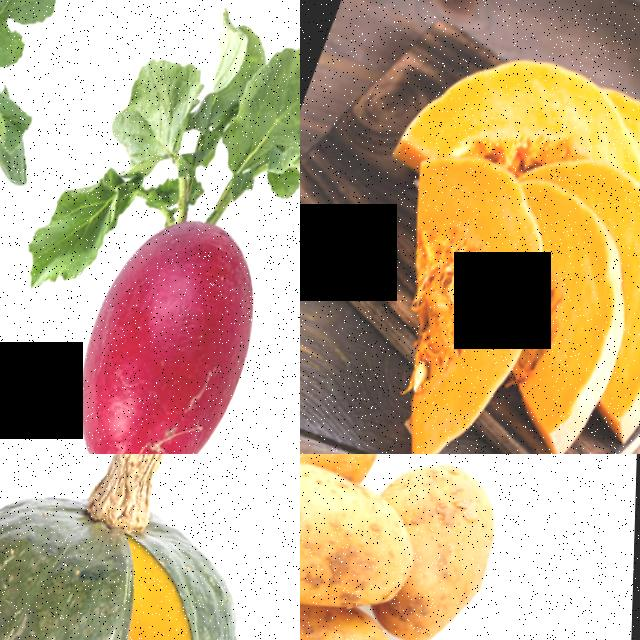potato: (375, 454, 523, 640), (300, 454, 435, 634)
pumpkin: (320, 136, 576, 454), (0, 454, 213, 640), (490, 205, 640, 454), (391, 15, 583, 192)
radishes: (13, 90, 300, 454)
